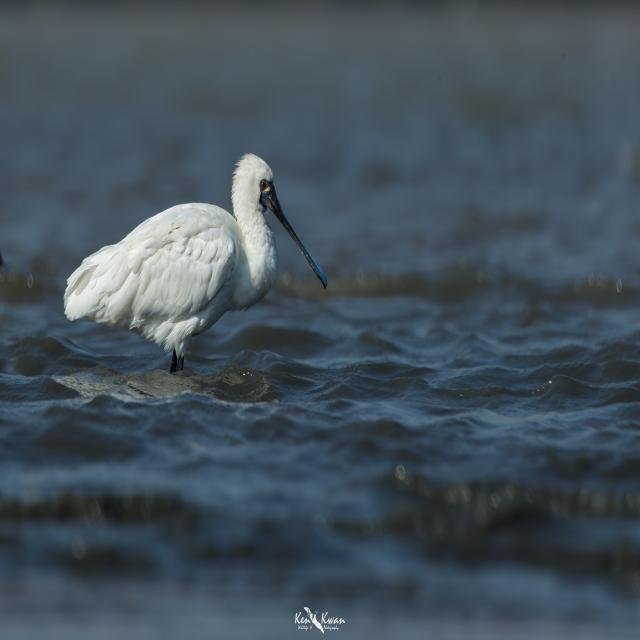Black-faced spoonbill: (64, 154, 327, 372)
